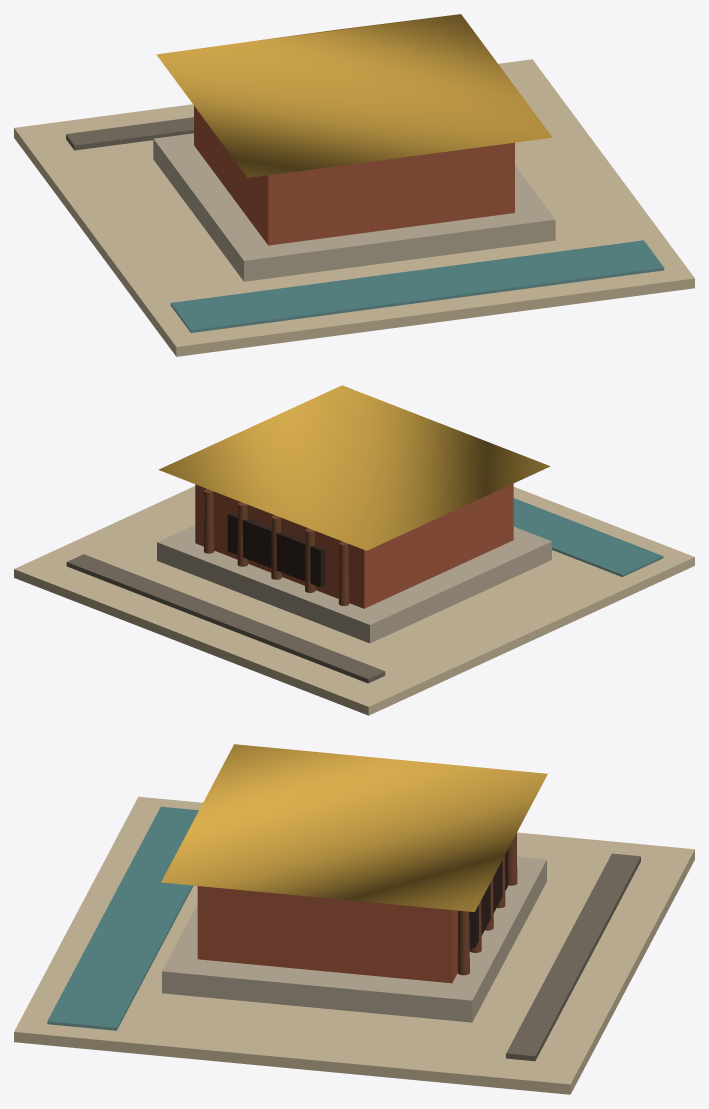
File: model-medium.glb
The picture shows the model from 3 angles, top to bottom: view 1: azimuth 30°, elevation 25°; view 2: azimuth 150°, elevation 25°; view 3: azimuth 270°, elevation 25°; orthographic projection. The views are drawn at different scales.
Visible parts, largest first — view 1: context_site_plinth, sweeping_tiled_roof, main_hall_wall_volume, raised_ceremonial_platform, context_water_edge, front_scale_strip; view 2: context_site_plinth, sweeping_tiled_roof, raised_ceremonial_platform, main_hall_wall_volume, front_scale_strip, context_water_edge, central_shadow_door, front_column_5, front_column_1; view 3: context_site_plinth, sweeping_tiled_roof, main_hall_wall_volume, raised_ceremonial_platform, context_water_edge, front_scale_strip, central_shadow_door, front_column_5.
Boxes of the visible parts, bbox=[...] form: context_site_plinth: bbox=[14, 59, 694, 356]; sweeping_tiled_roof: bbox=[156, 14, 552, 177]; main_hall_wall_volume: bbox=[194, 106, 514, 245]; raised_ceremonial_platform: bbox=[153, 133, 555, 281]; context_water_edge: bbox=[170, 240, 664, 332]; front_scale_strip: bbox=[66, 117, 193, 150]; context_site_plinth: bbox=[14, 486, 694, 715]; sweeping_tiled_roof: bbox=[158, 385, 550, 550]; raised_ceremonial_platform: bbox=[157, 525, 551, 643]; main_hall_wall_volume: bbox=[195, 483, 513, 608]; front_scale_strip: bbox=[66, 554, 385, 683]; context_water_edge: bbox=[513, 498, 663, 577]; central_shadow_door: bbox=[227, 512, 325, 587]; front_column_5: bbox=[203, 489, 214, 553]; front_column_1: bbox=[338, 541, 349, 605]; context_site_plinth: bbox=[14, 796, 694, 1094]; sweeping_tiled_roof: bbox=[161, 744, 547, 911]; main_hall_wall_volume: bbox=[197, 886, 457, 983]; raised_ceremonial_platform: bbox=[162, 856, 546, 1022]; context_water_edge: bbox=[47, 806, 198, 1030]; front_scale_strip: bbox=[506, 853, 640, 1061]; central_shadow_door: bbox=[469, 850, 507, 947]; front_column_5: bbox=[457, 910, 469, 975].
Size of the model in its own units: 9.55 by 2.62 by 9.55.
